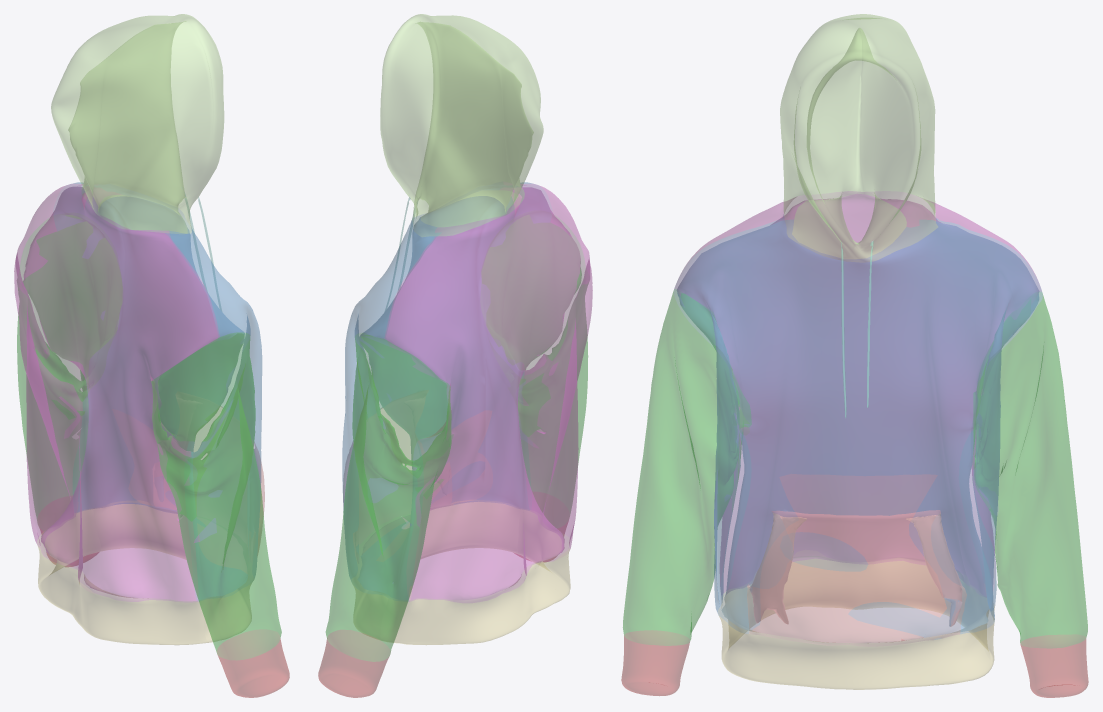
The model's file is HoodieOptimized.glb.
3 views of the same model, side by side, from view 1: azimuth 30°, elevation 25°; view 2: azimuth 150°, elevation 25°; view 3: azimuth 270°, elevation 25° (orthographic). The views are drawn at different scales.
Visible parts, largest first — view 1: Back, Front, Head, RightHand, LeftHand, BackDown, FrontLow, RightHandDown, FrontBAG, HeadBand; view 2: Back, Front, Head, LeftHand, RightHand, BackDown, FrontLow, LeftHandDown, FrontBAG; view 3: Front, Back, Head, FrontBAG, RightHand, LeftHand, FrontLow, BackDown, RightHandDown, LeftHandDown, HeadBand.
Part boxes in pixels (<box>): Back: <box>14,184,219,602</box>; Front: <box>53,182,261,601</box>; Head: <box>51,14,223,233</box>; RightHand: <box>151,332,281,660</box>; LeftHand: <box>17,215,122,520</box>; BackDown: <box>37,509,209,644</box>; FrontLow: <box>93,504,251,642</box>; RightHandDown: <box>217,630,289,697</box>; FrontBAG: <box>79,406,264,593</box>; HeadBand: <box>185,194,221,310</box>; Back: <box>384,184,592,602</box>; Front: <box>342,182,551,601</box>; Head: <box>380,14,543,236</box>; LeftHand: <box>326,333,453,661</box>; RightHand: <box>481,214,588,516</box>; BackDown: <box>382,509,570,644</box>; FrontLow: <box>353,502,520,639</box>; LeftHandDown: <box>318,630,389,697</box>; FrontBAG: <box>343,408,569,599</box>; Front: <box>674,216,1042,639</box>; Back: <box>675,191,1041,596</box>; Head: <box>780,14,937,262</box>; FrontBAG: <box>747,474,966,646</box>; RightHand: <box>623,289,749,645</box>; LeftHand: <box>973,292,1087,648</box>; FrontLow: <box>718,605,994,689</box>; BackDown: <box>722,558,994,661</box>; RightHandDown: <box>621,630,689,695</box>; LeftHandDown: <box>1020,635,1088,697</box>; HeadBand: <box>841,241,873,417</box>.
Bounding box in the file's own units: 0.2973 × 0.9493 × 0.6048.
